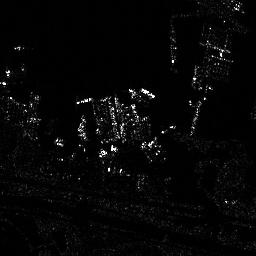ship: (138, 86, 157, 99), (76, 97, 93, 104)
